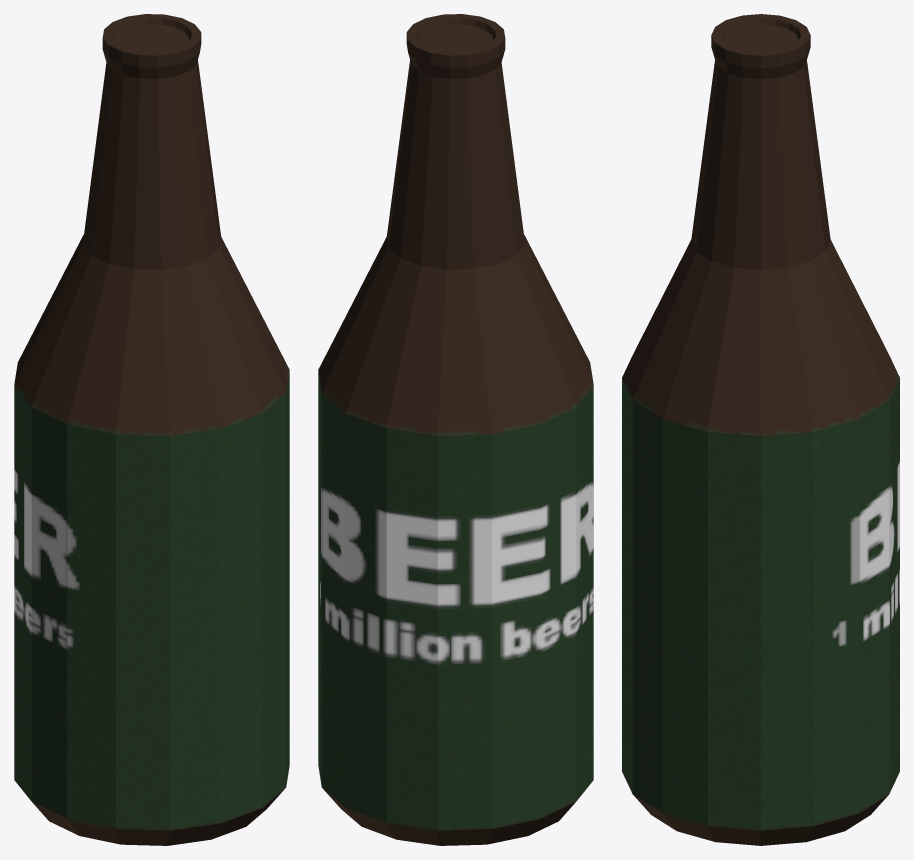
File: MKU_Glass_bottle_fin.fbx
The picture shows the model from 3 angles, left to right: view 1: azimuth 30°, elevation 25°; view 2: azimuth 150°, elevation 25°; view 3: azimuth 270°, elevation 25°; orthographic projection.
Parts seen in each view (by area): view 1: Cylinder; view 2: Cylinder; view 3: Cylinder.
Part boxes in pixels (x1,y1,x2,y2): Cylinder: (14,14,289,845); Cylinder: (318,14,593,845); Cylinder: (622,14,899,845).
Size of the model in its own units: 200 by 605 by 200.
